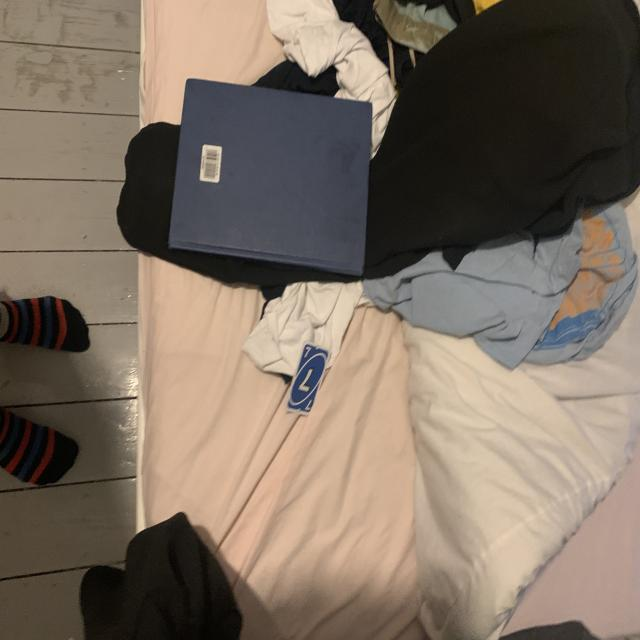lblue-7: (303, 344, 312, 360)
